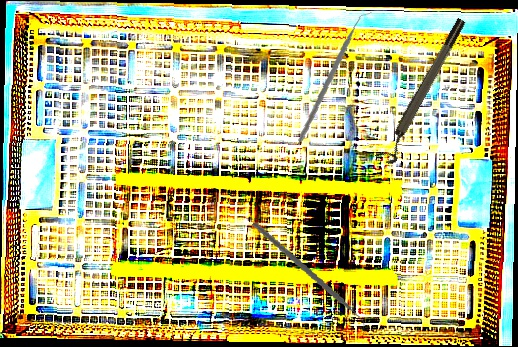Chopper: (237, 222, 380, 334), (285, 12, 386, 142)
Fixation Ring: (375, 16, 474, 167)
